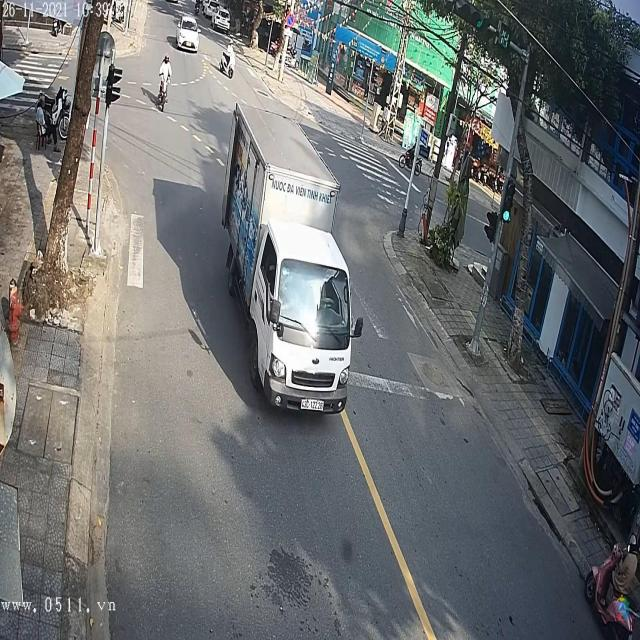car: (177, 20, 201, 52)
motorcycle: (218, 46, 234, 80)
truck: (225, 97, 358, 413)
